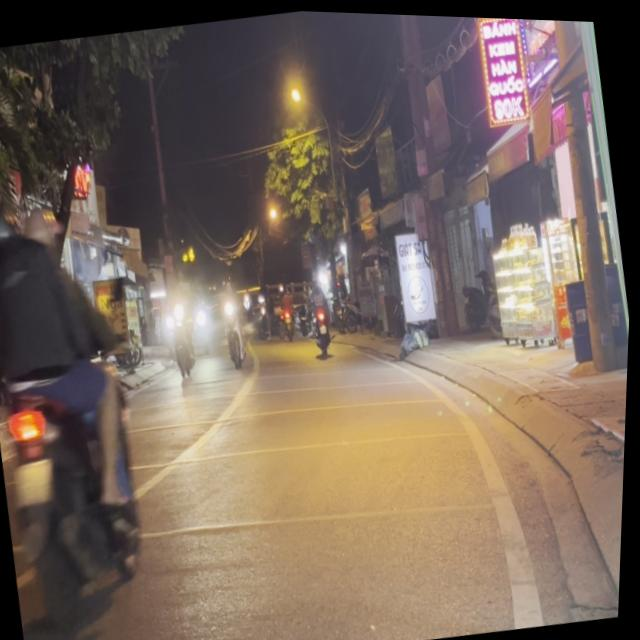helmet: (18, 200, 70, 264), (0, 197, 27, 267)
licenseplate: (0, 150, 181, 640)
nohelmet: (12, 456, 59, 505)
